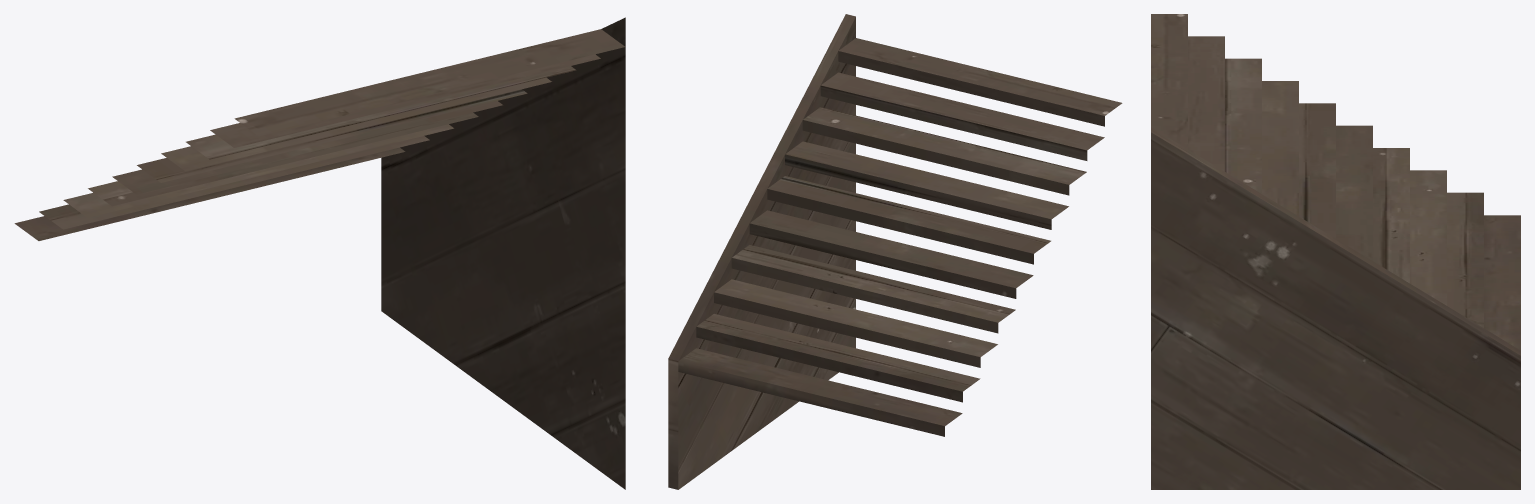
3 renders of one model, left to right at view 1: azimuth 30°, elevation 25°; view 2: azimuth 150°, elevation 25°; view 3: azimuth 270°, elevation 25°, orthographic. The views are drawn at different scales.
Parts seen in each view (by area): view 1: body0_model0_lod0_mesh0; view 2: body0_model0_lod0_mesh0; view 3: body0_model0_lod0_mesh0.
Part boxes in pixels (box(x1,y1,x2,y2)): body0_model0_lod0_mesh0: box(14, 17, 625, 489); body0_model0_lod0_mesh0: box(668, 14, 1122, 489); body0_model0_lod0_mesh0: box(1151, 14, 1520, 489).
Size of the model in its own units: 108 by 128 by 120.
1 material, 1 textured.
